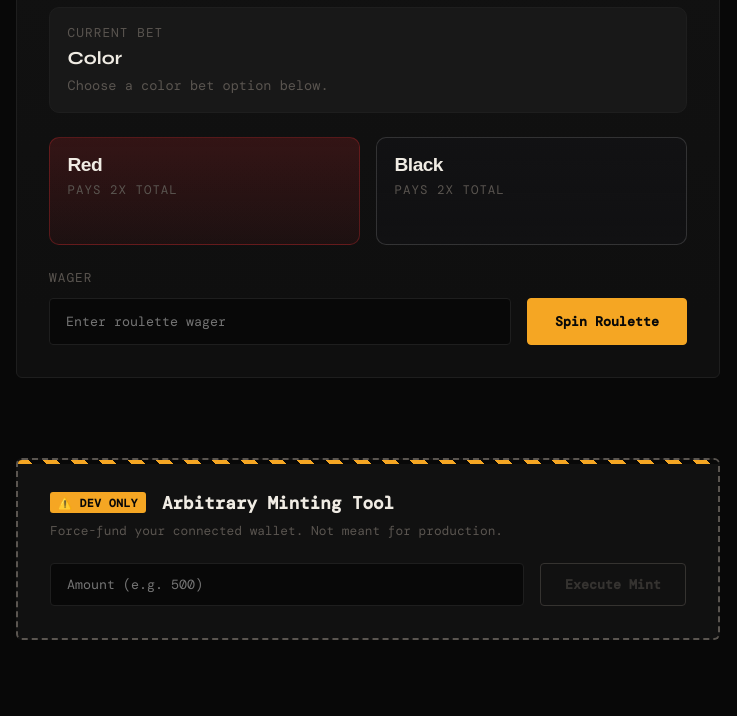
it: EarnPage › shows error when dev minting fails
(page scrolled)
Type "100" into the number field with placeholder "Amount (e.g. 500)".
click(287, 584); type("100")  # box [50,563,524,606]
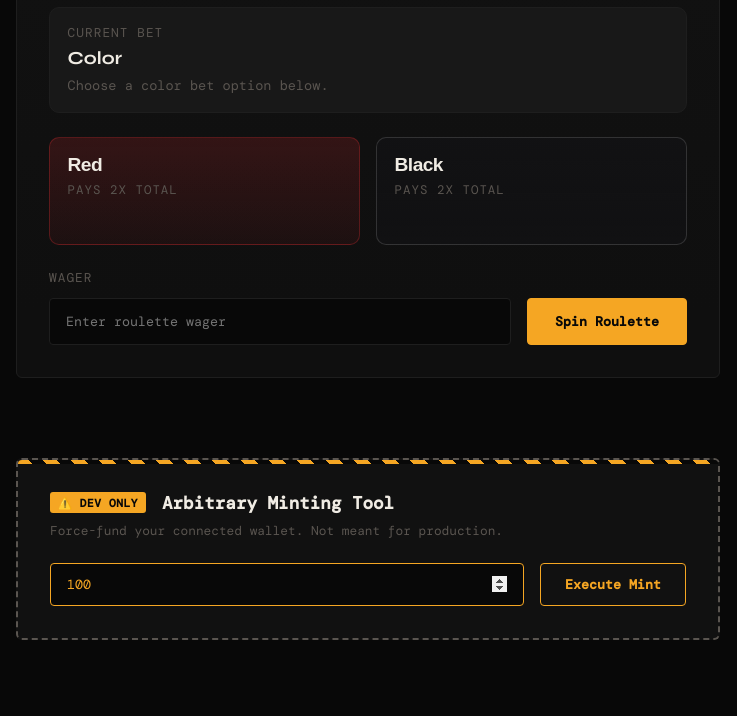
Click the button "Execute Mint".
click(613, 584)  # box [540,563,686,606]
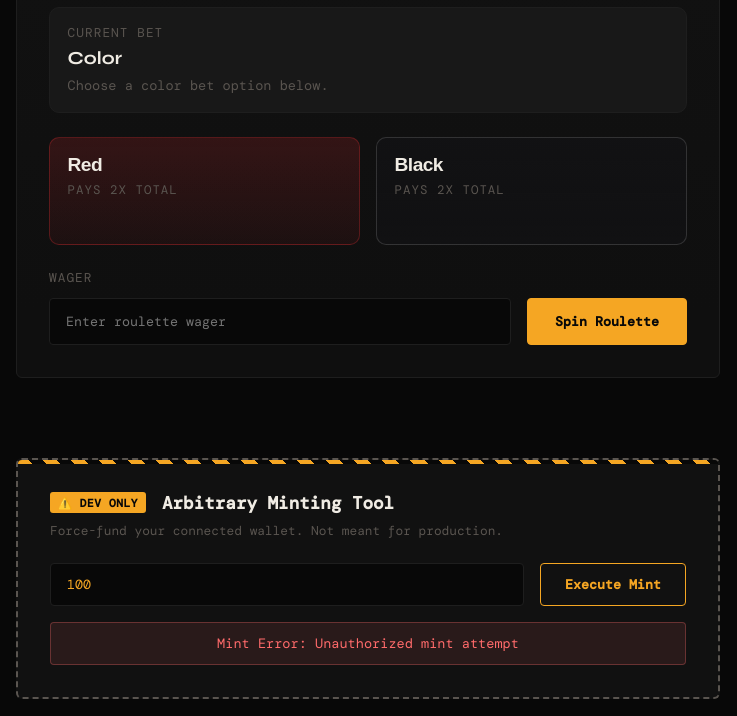
Expected: the text "Mint Error: Unauthorized mint attempt" is shown, [50,622,686,665]
